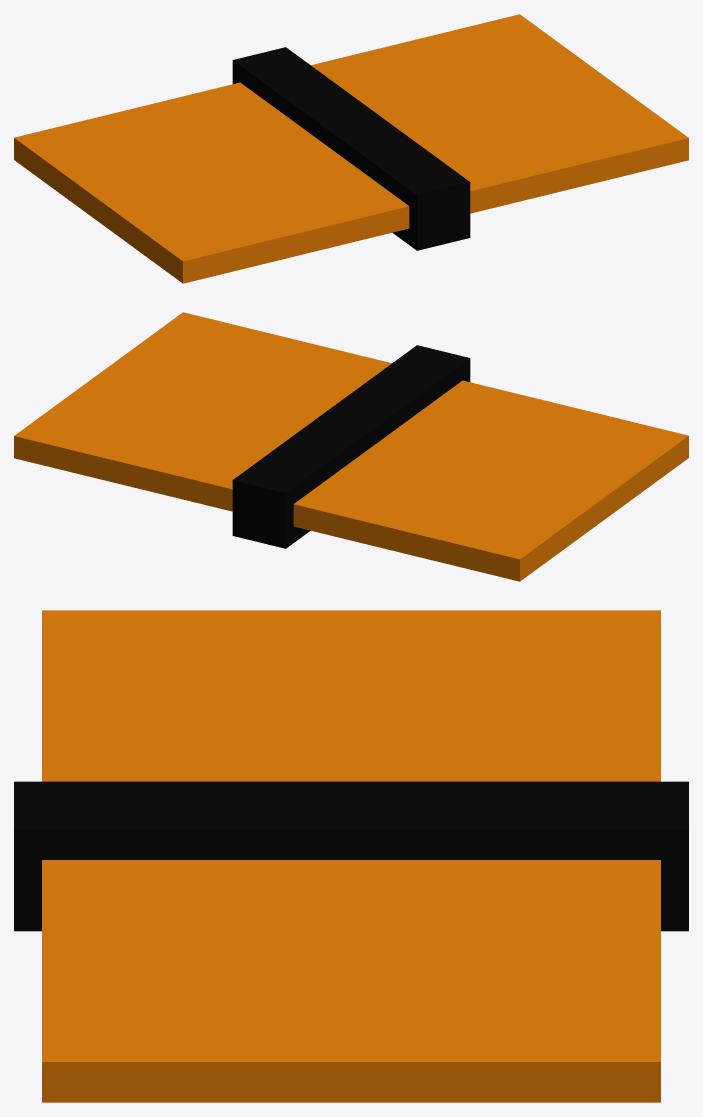
The model's file is ButterflyPlaceholder.glb.
3 renders of one model, top to bottom at view 1: azimuth 30°, elevation 25°; view 2: azimuth 150°, elevation 25°; view 3: azimuth 270°, elevation 25°, orthographic. The views are drawn at different scales.
Parts seen in each view (by area): view 1: LeftWing, RightWing, Body; view 2: LeftWing, RightWing, Body; view 3: RightWing, LeftWing, Body.
Boxes of the visible parts, x1=… form: LeftWing: x1=14, y1=82, x2=409, y2=283; RightWing: x1=311, y1=14, x2=688, y2=213; Body: x1=232, y1=47, x2=470, y2=250; LeftWing: x1=293, y1=380, x2=688, y2=581; RightWing: x1=14, y1=312, x2=391, y2=511; Body: x1=232, y1=345, x2=470, y2=548; RightWing: x1=42, y1=860, x2=660, y2=1102; LeftWing: x1=42, y1=610, x2=660, y2=781; Body: x1=14, y1=781, x2=688, y2=931.
Bounding box in the file's own units: 19 × 2 × 12.
